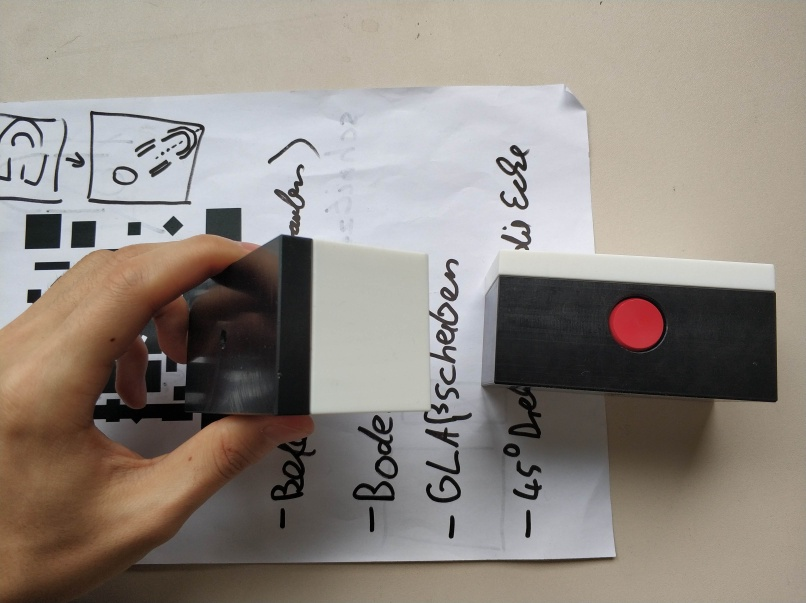white+black+red: (477, 249, 780, 405)
